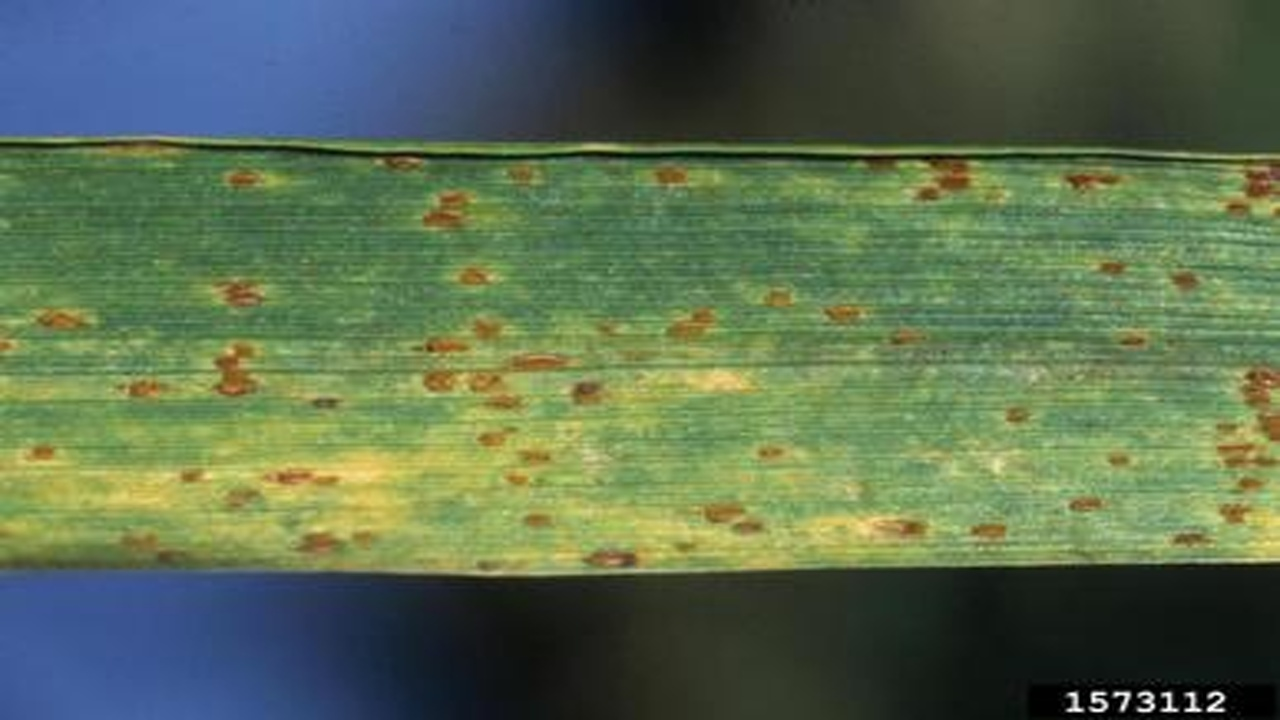leaf_rust: (1, 136, 1280, 579)
